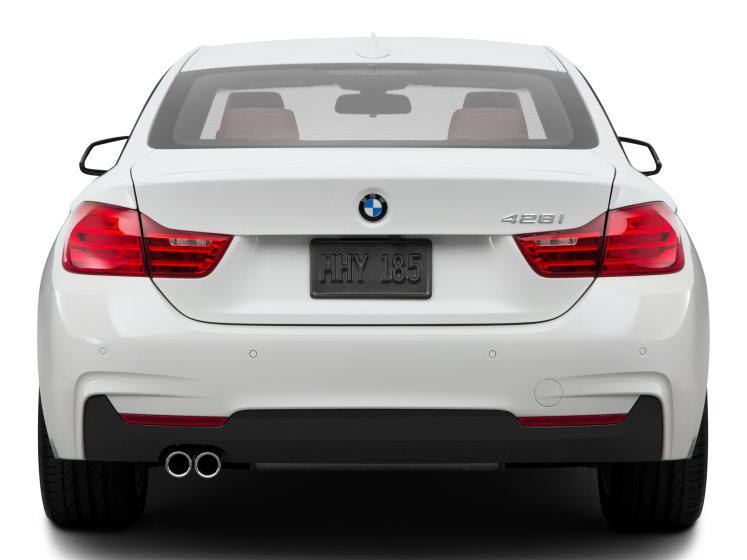bmw: (17, 22, 736, 543)
